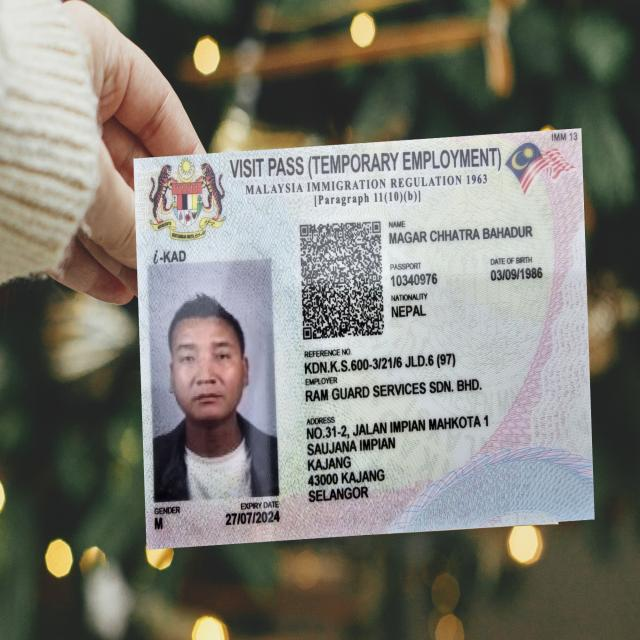ikad-temp: (125, 124, 598, 555)
